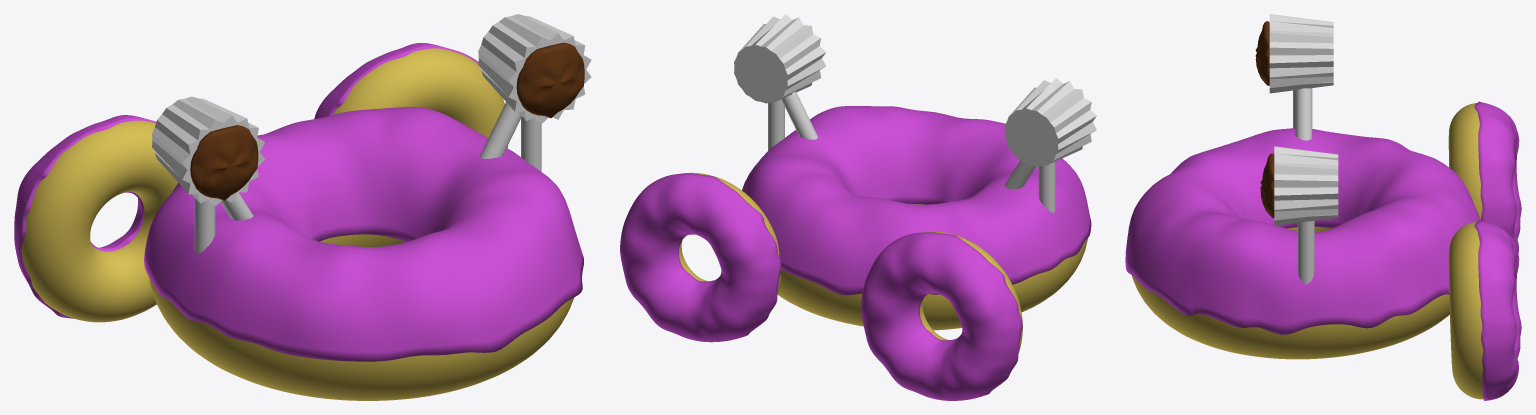
File: doughnut.fbx
3 views of the same model, side by side, from view 1: azimuth 30°, elevation 25°; view 2: azimuth 150°, elevation 25°; view 3: azimuth 270°, elevation 25° (orthographic). The views are drawn at different scales.
Visible parts, largest first — view 1: Torus.001, Torus.003, Torus, Torus.004, Cylinder.003, Cylinder.002, Sphere.001, Sphere, Torus.002, Torus.005, Cylinder, Cylinder.004 (+2 smaller); view 2: Torus.001, Torus.002, Torus.005, Cylinder.003, Cylinder.002, Torus, Cylinder, Cylinder.004, Torus.003, Cylinder.001, Torus.004, Cylinder.005; view 3: Torus.001, Torus, Torus.005, Torus.004, Torus.002, Cylinder.003, Cylinder.002, Torus.003, Cylinder.001, Cylinder.005, Sphere, Sphere.001.
Part boxes in pixels (x1,y1,x2,y2): Torus.001: [144, 107, 583, 361]; Torus.003: [21, 120, 177, 322]; Torus: [149, 234, 573, 400]; Torus.004: [333, 48, 507, 148]; Cylinder.003: [152, 96, 264, 206]; Cylinder.002: [478, 14, 591, 123]; Sphere.001: [190, 125, 258, 200]; Sphere: [516, 42, 584, 118]; Torus.002: [14, 115, 156, 318]; Torus.005: [314, 43, 478, 118]; Cylinder: [480, 102, 521, 158]; Cylinder.004: [194, 198, 215, 253]; Torus.001: [742, 106, 1091, 295]; Torus.002: [861, 232, 1022, 400]; Torus.005: [620, 173, 781, 342]; Cylinder.003: [1004, 78, 1096, 167]; Cylinder.002: [734, 14, 825, 103]; Torus: [778, 203, 1087, 330]; Cylinder: [781, 91, 817, 139]; Cylinder.004: [1038, 161, 1055, 212]; Torus.003: [920, 231, 1022, 352]; Cylinder.001: [768, 99, 784, 150]; Torus.004: [679, 172, 780, 293]; Cylinder.005: [1004, 160, 1035, 189]; Torus.001: [1125, 128, 1480, 334]; Torus: [1132, 226, 1449, 359]; Torus.005: [1474, 220, 1521, 400]; Torus.004: [1448, 222, 1483, 399]; Torus.002: [1474, 101, 1521, 253]; Cylinder.003: [1269, 14, 1333, 93]; Cylinder.002: [1274, 146, 1338, 225]; Torus.003: [1448, 103, 1482, 219]; Cylinder.001: [1297, 220, 1314, 283]; Cylinder.005: [1295, 88, 1312, 140]; Sphere: [1260, 153, 1274, 218]; Sphere.001: [1255, 21, 1269, 85].
Bounding box in the file's own units: 394 × 233 × 338.
